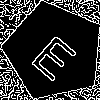E: (29, 26, 85, 83)
